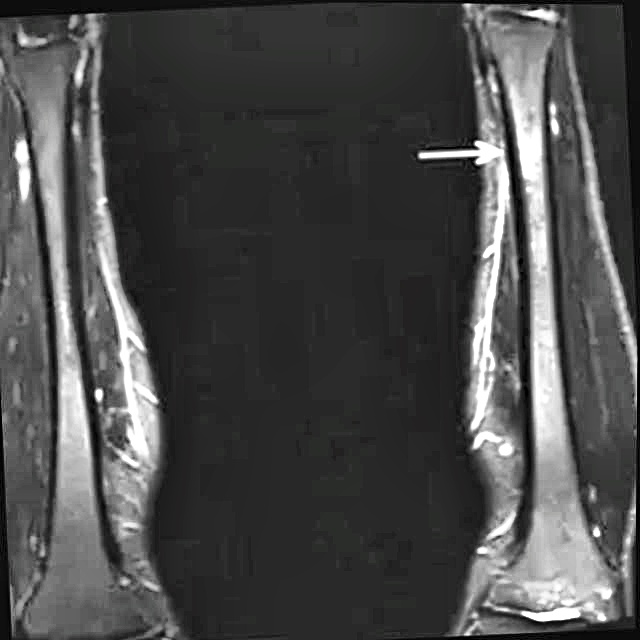Greenstick: (510, 124, 546, 185)
